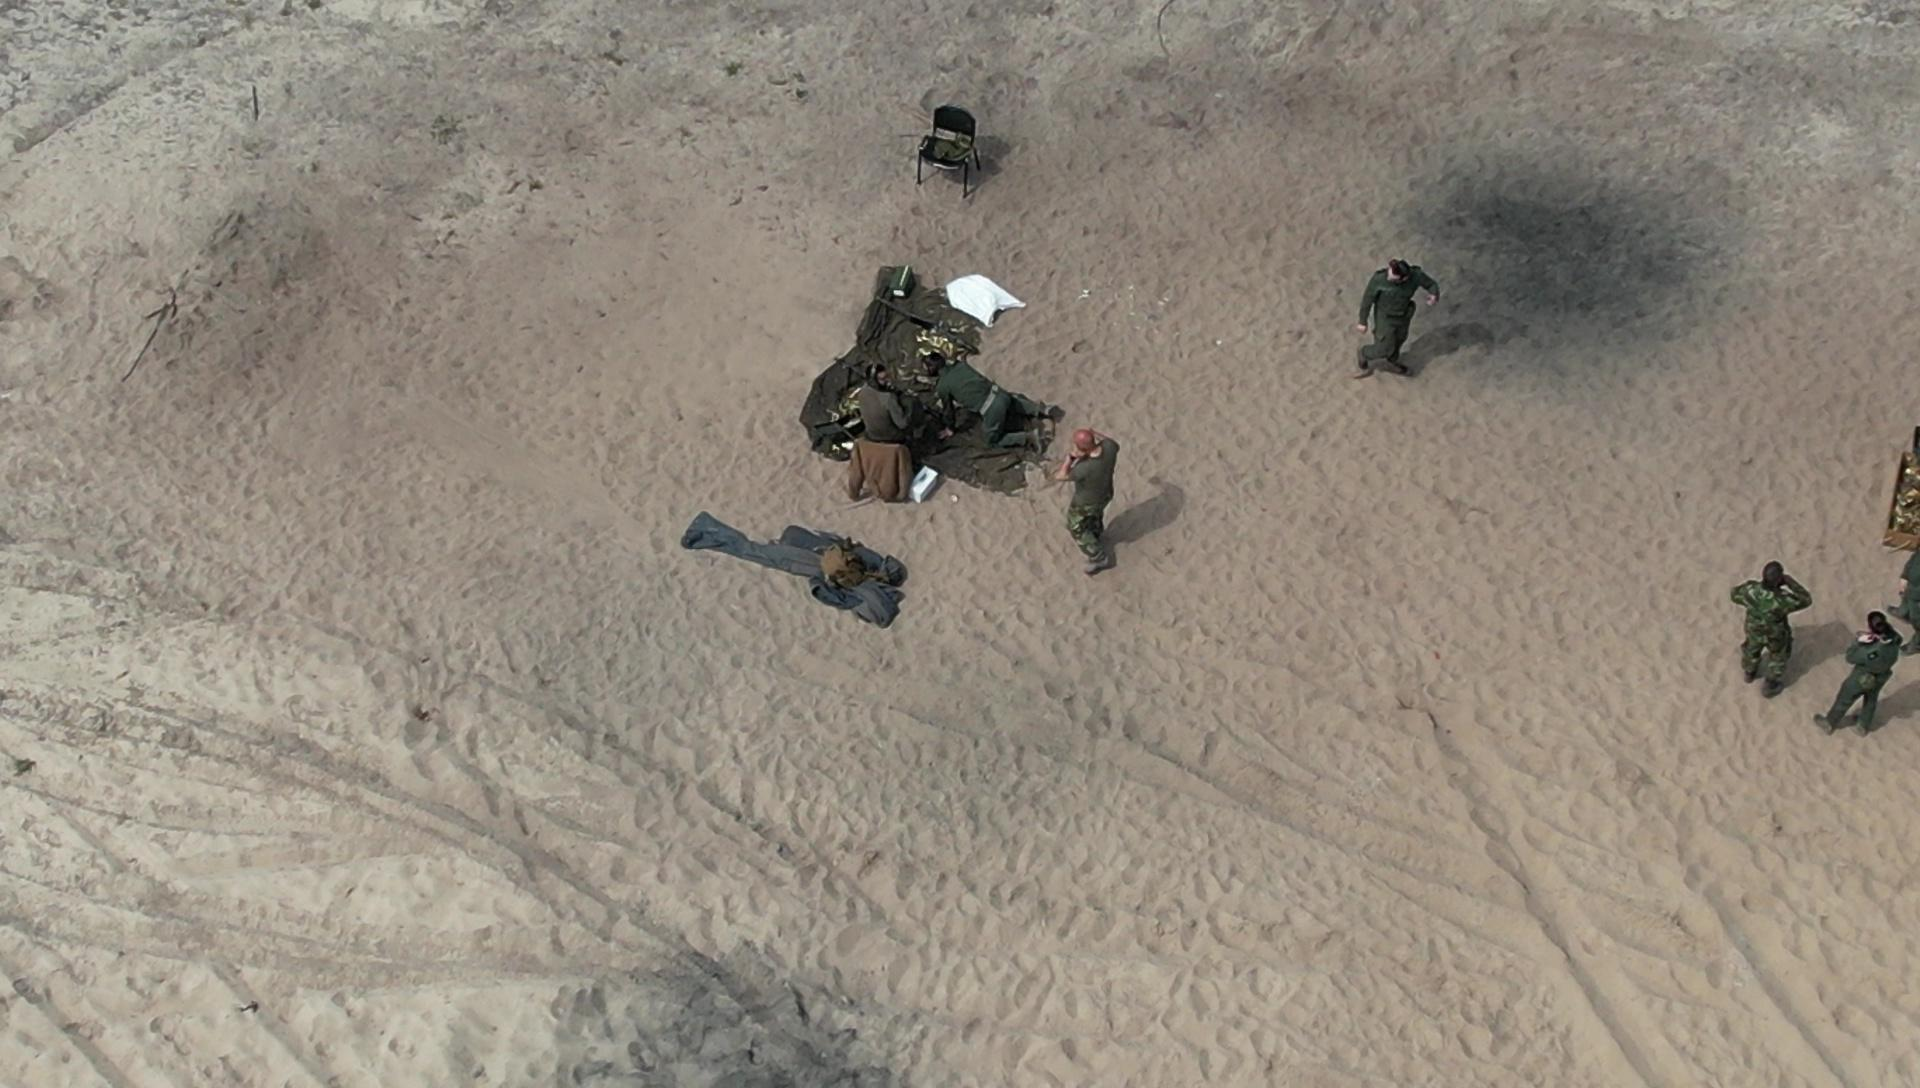Soldier: (1043, 411, 1168, 593), (1342, 237, 1441, 400), (924, 353, 1030, 483), (1737, 549, 1820, 710), (861, 351, 968, 466), (1844, 595, 1904, 739)
